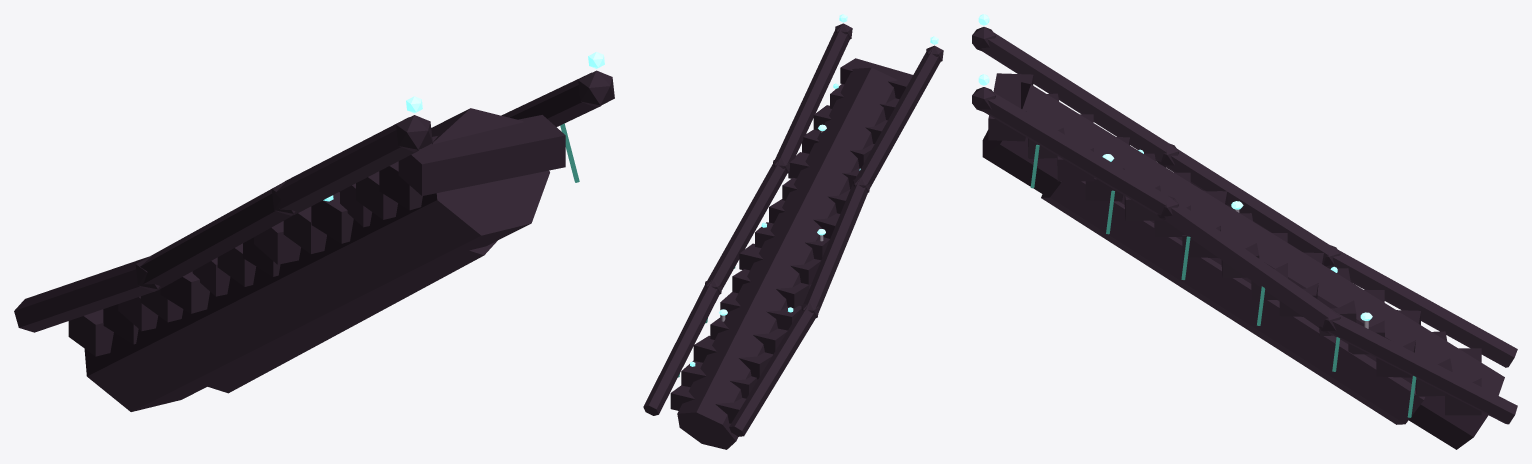
The model's file is escalier_falaise_modele.glb.
3 renders of one model, left to right at view 1: azimuth 30°, elevation 25°; view 2: azimuth 150°, elevation 25°; view 3: azimuth 270°, elevation 25°, orthographic. The views are drawn at different scales.
Visible parts, largest first — view 1: P41.004, P20.012, P22.012, P42.005, P23.014, P21.012, P30.008, P1.019, P14.021, P6.021, P13.020, P12.021 (+11 smaller); view 2: P41.004, P23.014, P21.012, P30.008, P28.011, P29.008, P22.012, P20.012, P4.022, P9.020, P8.018, P1.019 (+10 smaller); view 3: P41.004, P42.005, P30.008, P23.014, P28.011, P29.008, P21.012, P22.012, P20.012, P1.019, P4.022, P17.016 (+4 smaller).
Part boxes in pixels (x1,y1,x2,y2): P41.004: [84, 108, 549, 411]; P20.012: [398, 115, 565, 195]; P22.012: [140, 182, 294, 289]; P42.005: [201, 240, 497, 393]; P23.014: [275, 117, 420, 214]; P21.012: [14, 256, 158, 332]; P30.008: [501, 72, 601, 126]; P1.019: [68, 309, 113, 356]; P14.021: [311, 192, 353, 243]; P6.021: [160, 271, 209, 313]; P13.020: [283, 206, 326, 253]; P12.021: [254, 221, 300, 264]; P41.004: [677, 67, 897, 449]; P23.014: [855, 50, 940, 188]; P21.012: [729, 306, 815, 436]; P30.008: [775, 28, 849, 163]; P28.011: [643, 282, 719, 415]; P29.008: [707, 162, 786, 289]; P22.012: [803, 181, 867, 312]; P20.012: [840, 58, 912, 99]; P4.022: [693, 335, 772, 379]; P9.020: [739, 243, 820, 284]; P8.018: [732, 269, 809, 308]; P1.019: [670, 385, 745, 423]; P41.004: [982, 82, 1504, 449]; P42.005: [1041, 181, 1424, 424]; P30.008: [982, 90, 1173, 215]; P23.014: [981, 30, 1173, 161]; P28.011: [1327, 312, 1517, 424]; P29.008: [1164, 199, 1334, 327]; P21.012: [1326, 248, 1517, 367]; P22.012: [1165, 147, 1335, 260]; P20.012: [988, 73, 1033, 141]; P1.019: [1445, 348, 1481, 415]; P4.022: [1376, 310, 1420, 377]; P17.016: [1057, 114, 1094, 181].
Bounding box in the file's own units: 1.63 × 4.07 × 5.07.
